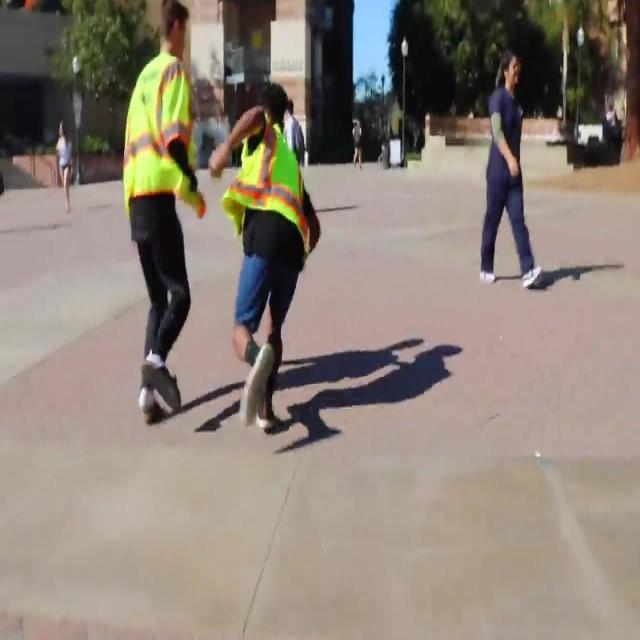Vest: (123, 52, 205, 218), (220, 108, 309, 252)
